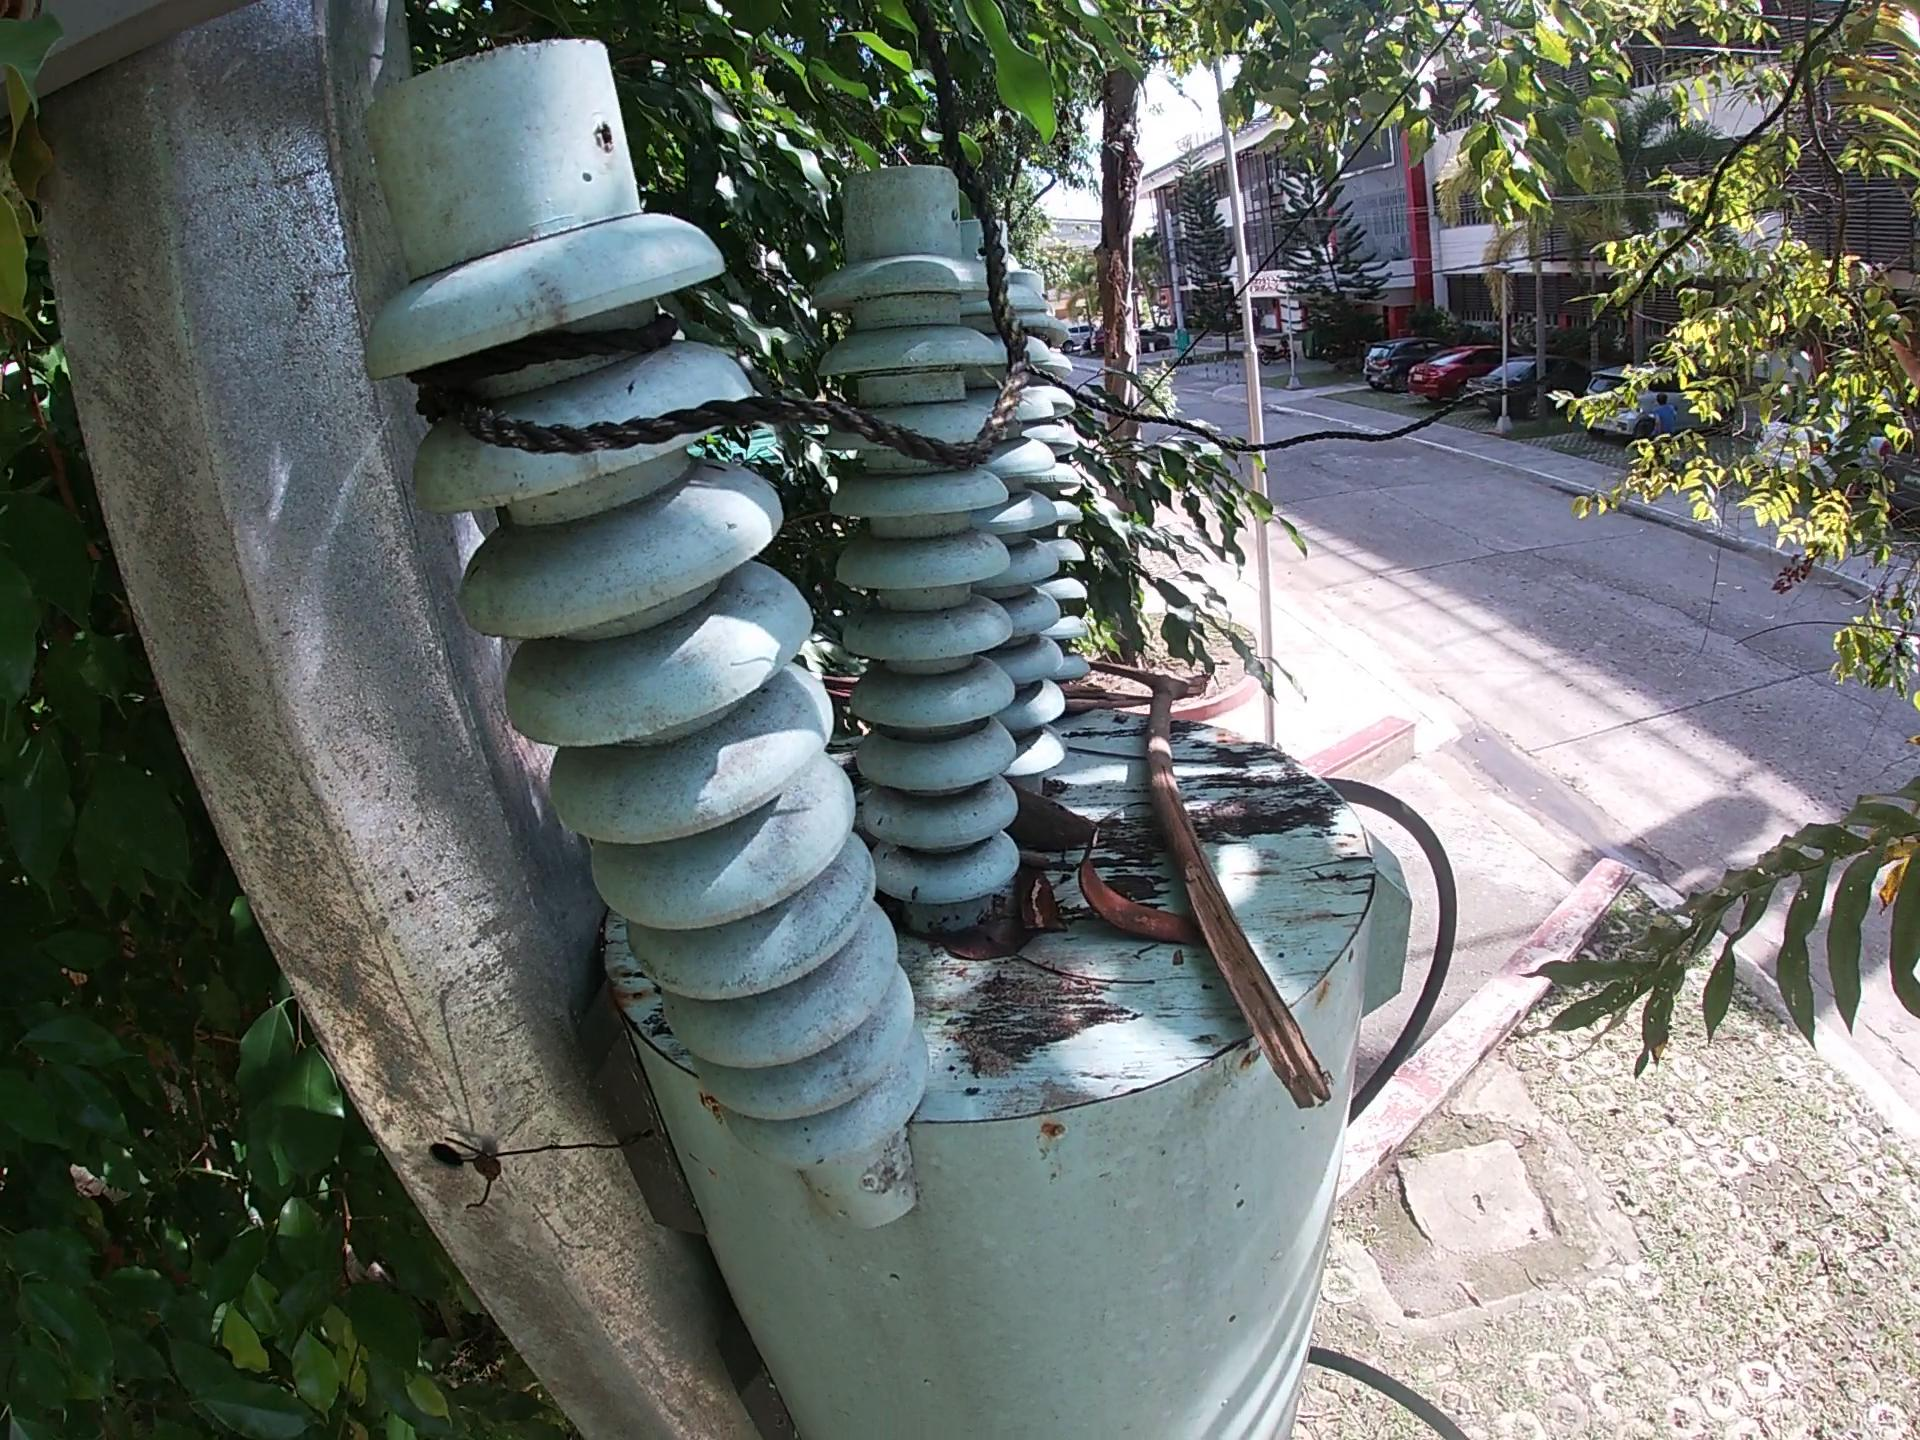leaf: (921, 926, 1043, 968)
mahogany fruit: (1066, 836, 1194, 954), (1014, 790, 1099, 862)
tree branch: (1092, 650, 1355, 1116), (1019, 957, 1179, 1001), (1173, 743, 1265, 777), (1023, 868, 1060, 945), (1063, 740, 1141, 773), (1060, 691, 1146, 718), (819, 664, 859, 703)
